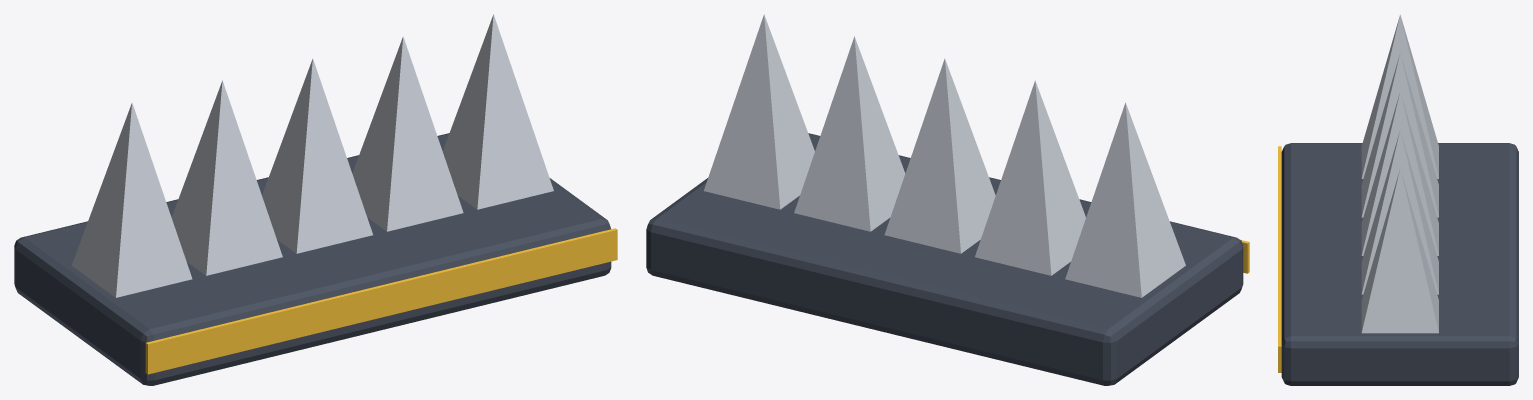
File: trap_spikes.glb
3 renders of one model, left to right at view 1: azimuth 30°, elevation 25°; view 2: azimuth 150°, elevation 25°; view 3: azimuth 270°, elevation 25°, orthographic. The views are drawn at different scales.
Parts seen in each view (by area): view 1: trap_spikes; view 2: trap_spikes; view 3: trap_spikes.
Part boxes in pixels (x1=…): trap_spikes: x1=14, y1=14, x2=617, y2=385; trap_spikes: x1=646, y1=14, x2=1249, y2=385; trap_spikes: x1=1278, y1=14, x2=1518, y2=385.
Bounding box in the file's own units: 2.6 × 1.2 × 1.32.
